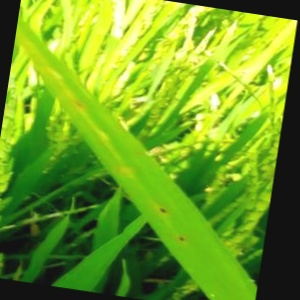Bacterial_Leaf_Blight: (174, 233, 190, 245), (156, 204, 170, 217)
